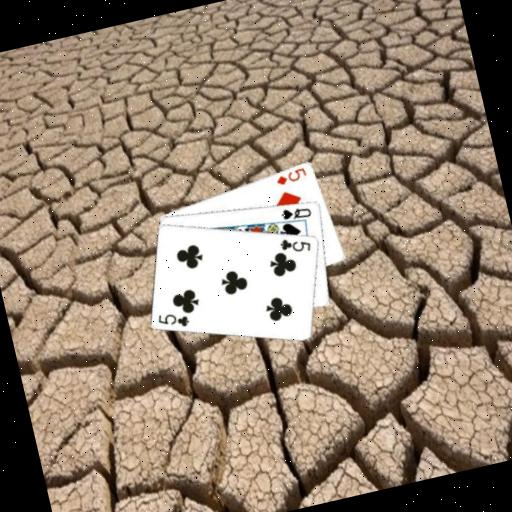5C: (276, 230, 314, 259), (154, 306, 192, 335)
5D: (272, 164, 310, 188)
QS: (277, 200, 314, 224)
